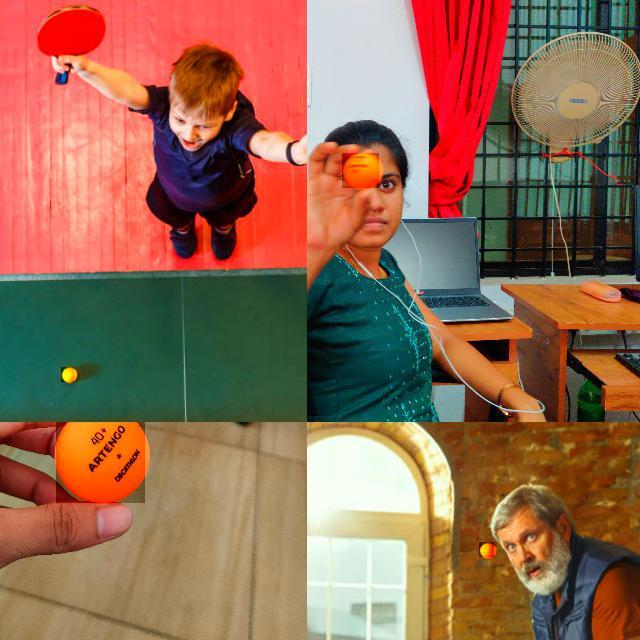ping-pong-ball: (55, 422, 147, 505), (342, 153, 380, 189), (61, 367, 75, 383), (480, 542, 494, 558)
